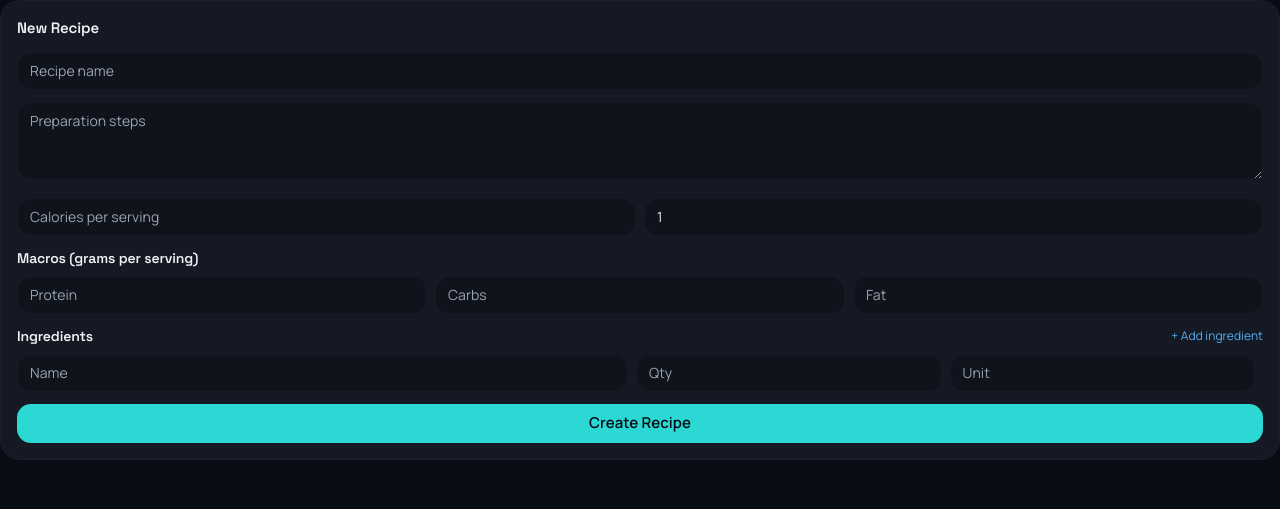
Test: RecipeForm › shows error when steps are empty
This screenshot has width=1280, height=509.
Type "Test" into the field labelled "Recipe name". click: (640,70)
box: x1=17 y1=52 x2=1263 y2=90
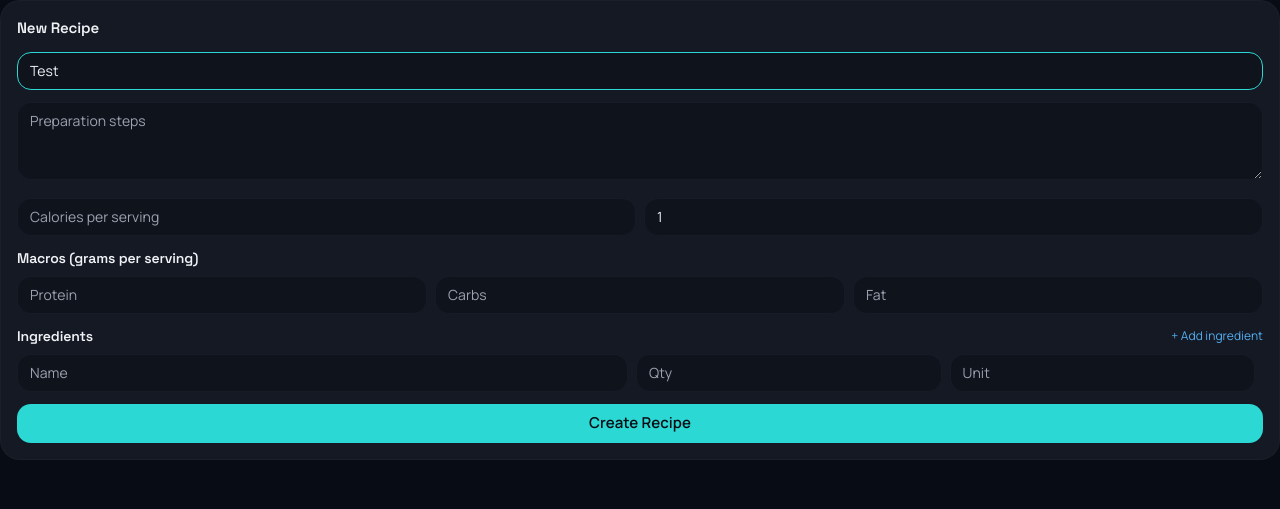
Type "100" into the number field labelled "Calories per serving". click: (326,217)
box: x1=17 y1=198 x2=636 y2=236
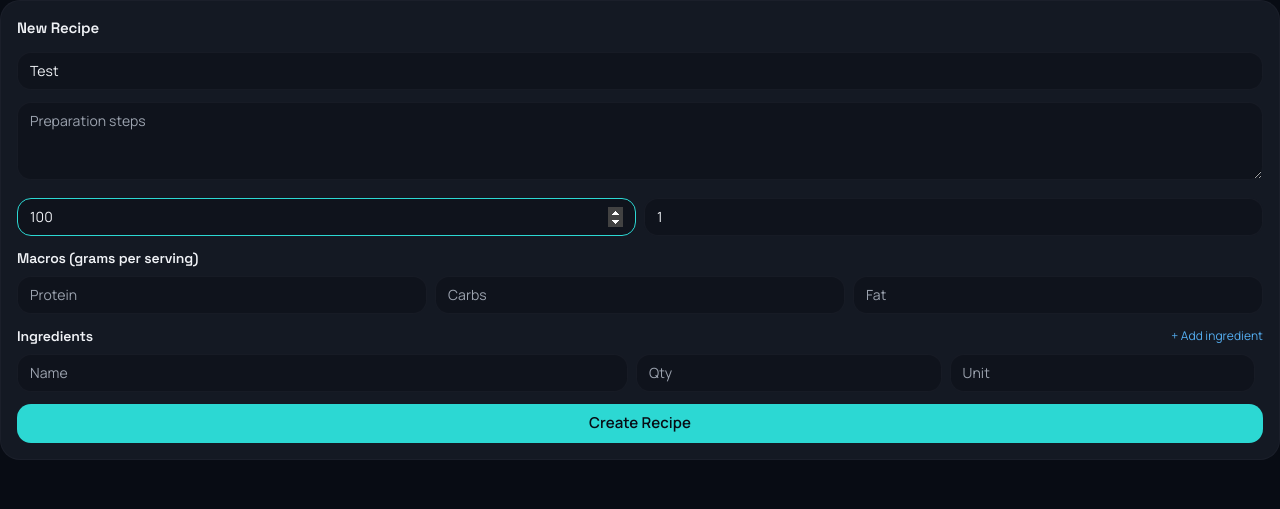
Click the button "Create Recipe". click: (640,423)
box: x1=17 y1=404 x2=1263 y2=442
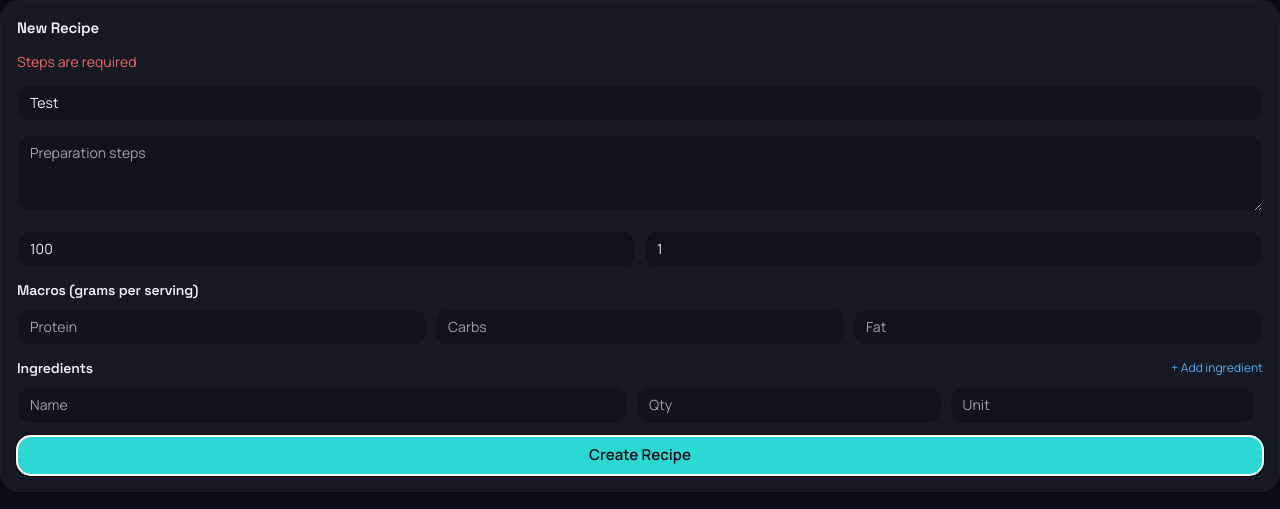
expect the text "Steps are required" is shown: met, box x1=17 y1=52 x2=137 y2=70
